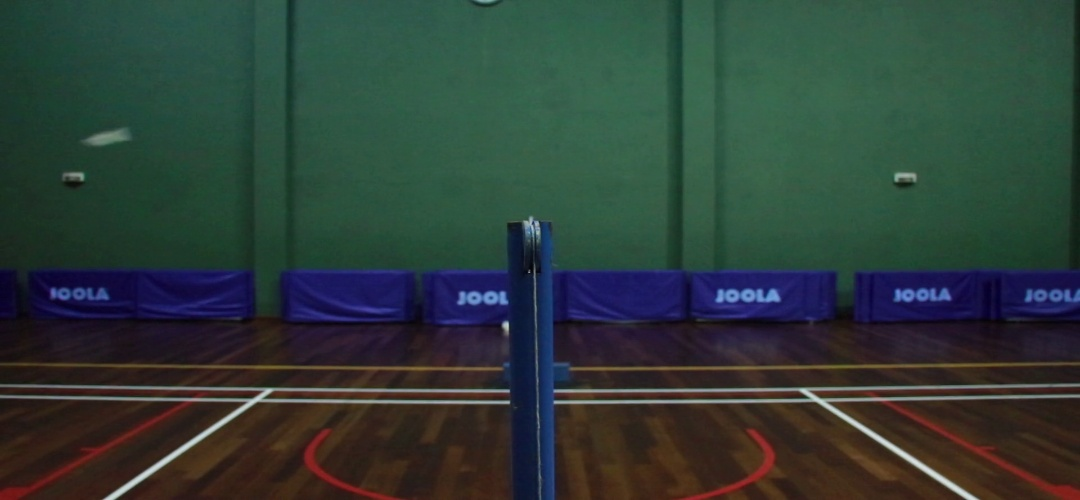c1: (237, 392, 275, 410)
c2: (794, 395, 840, 407)
net_level: (506, 220, 557, 293)
shuttle: (79, 128, 134, 148)
